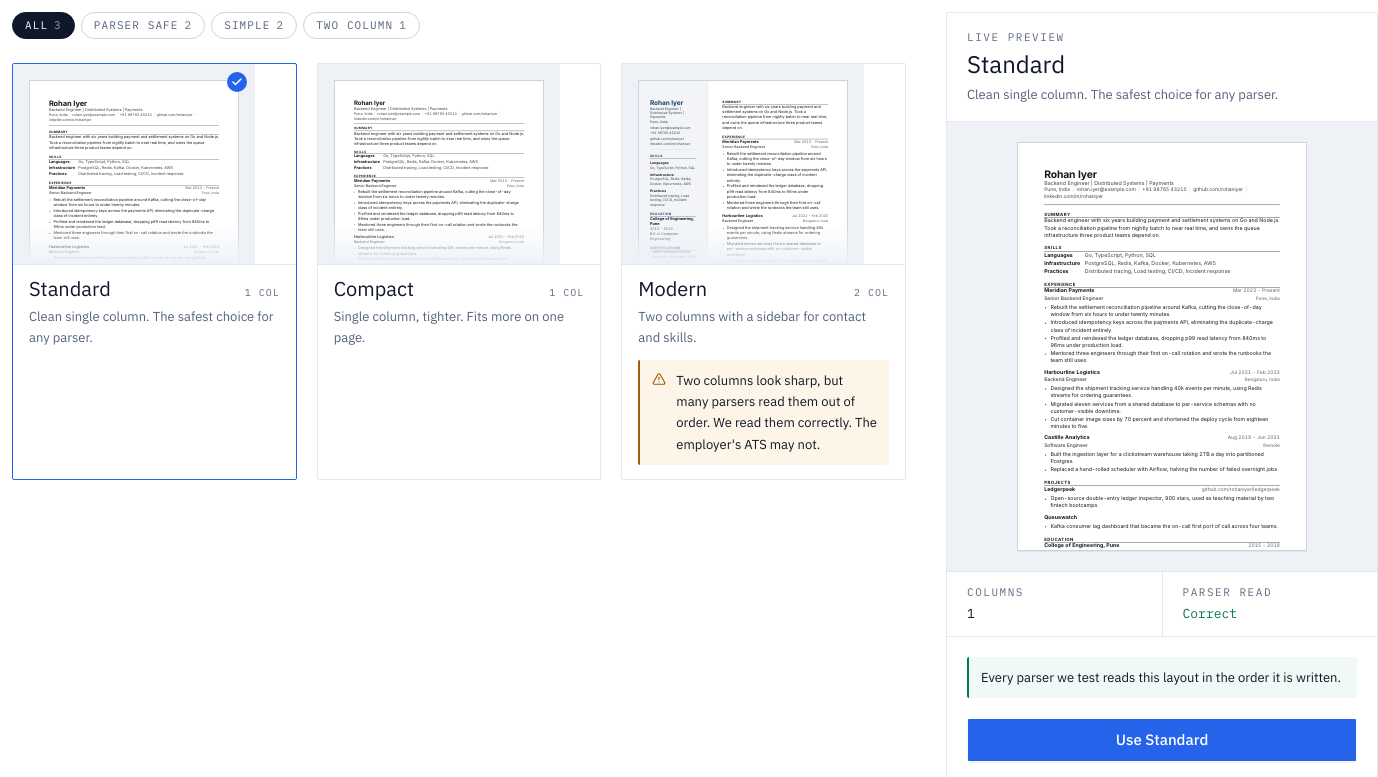
Test: TemplatePicker › filters to the two-column category and keeps the warning visible there
Click the button "Two column1".
click(361, 25)  # box [303,12,420,38]
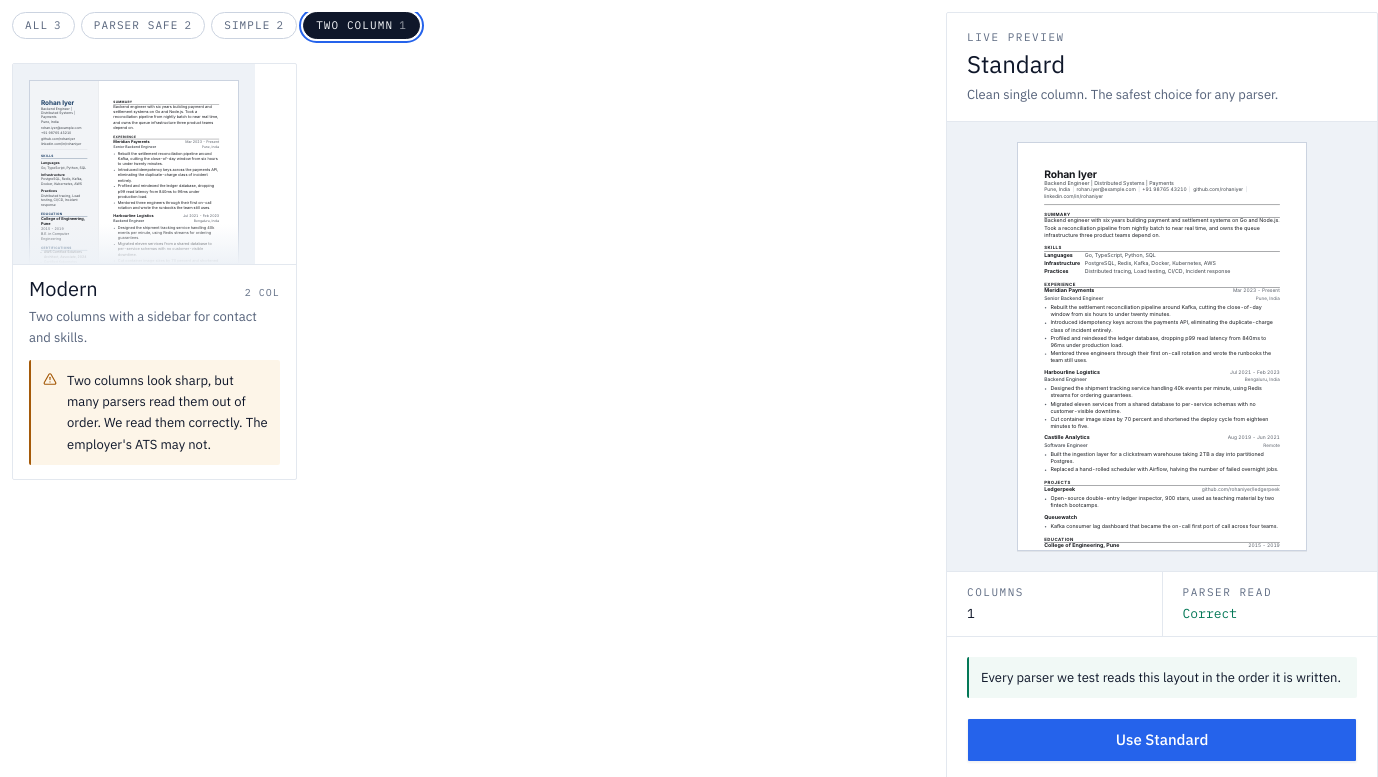
Expected: the text "Two columns look sharp, but many parsers read them out of order. We read them correctly. The employer's ATS may not." is shown, [67,372,268,452]
Now the number of radio buttons is 1, box [12,62,297,480]
